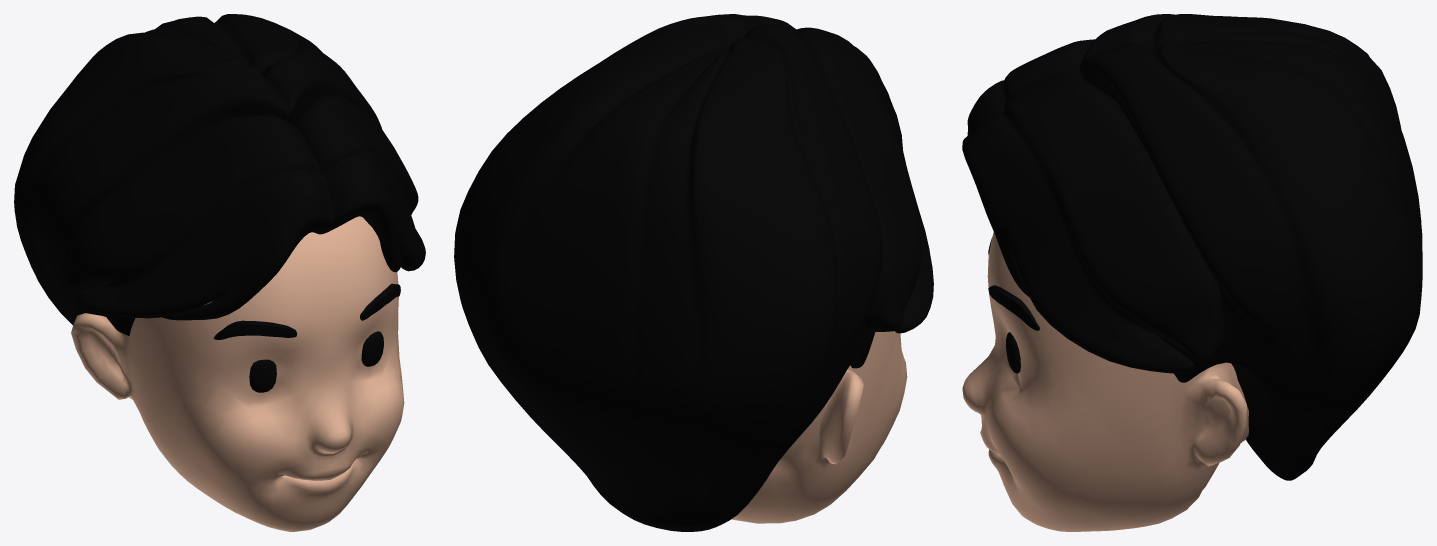
File: ant.glb
The picture shows the model from 3 angles, left to right: view 1: azimuth 30°, elevation 25°; view 2: azimuth 150°, elevation 25°; view 3: azimuth 270°, elevation 25°; orthographic projection. The views are drawn at different scales.
Parts seen in each view (by area): view 1: Hair_16, head, eyebrows.001, eyes.001; view 2: Hair_16, head; view 3: Hair_16, head, eyebrows.001.
Boxes of the visible parts, x1=… form: Hair_16: x1=14, y1=14, x2=425, y2=335; head: x1=71, y1=216, x2=404, y2=531; eyebrows.001: x1=213, y1=283, x2=400, y2=339; eyes.001: x1=249, y1=331, x2=383, y2=392; Hair_16: x1=454, y1=14, x2=933, y2=531; head: x1=732, y1=331, x2=907, y2=523; Hair_16: x1=962, y1=14, x2=1422, y2=480; head: x1=962, y1=232, x2=1248, y2=531; eyebrows.001: x1=988, y1=238, x2=1039, y2=330.
Size of the model in its own units: 0.2415 by 0.3006 by 0.2573.
